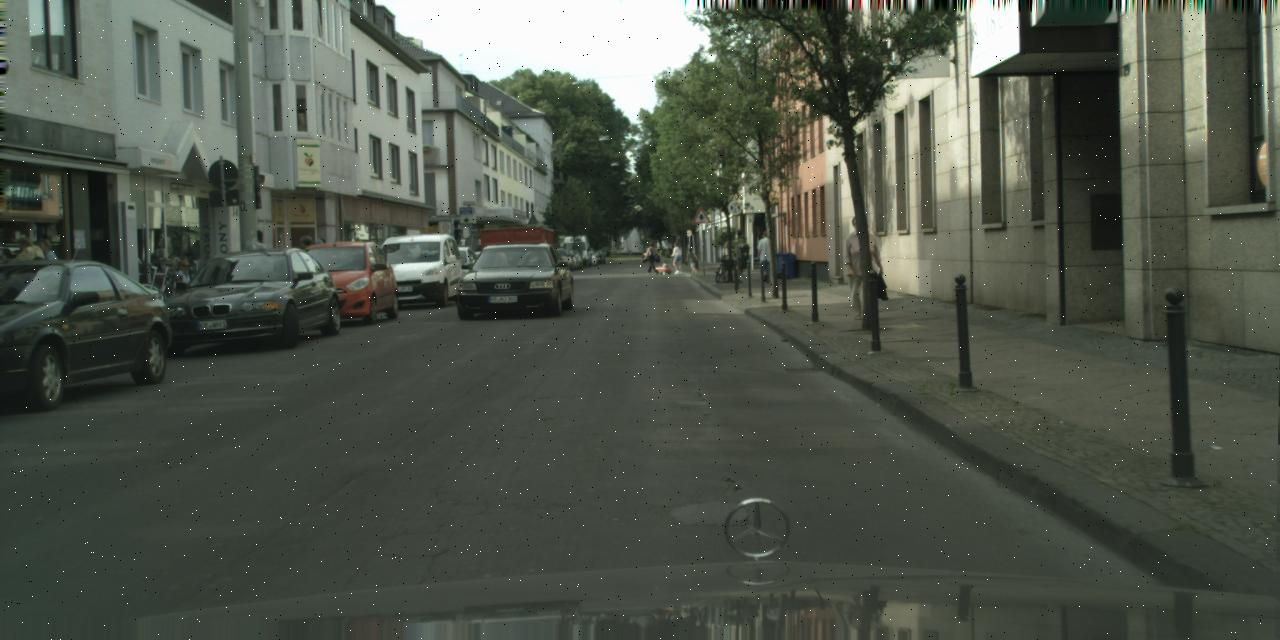ped: (840, 215, 881, 317), (244, 229, 272, 297), (756, 230, 777, 282), (646, 241, 658, 273), (670, 241, 682, 273), (300, 236, 326, 248), (688, 248, 698, 273)
